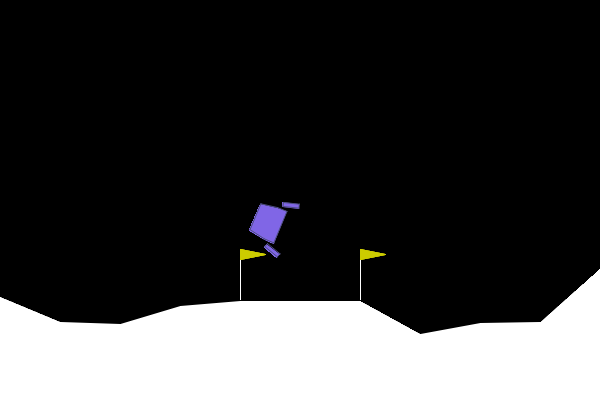lander: (241, 189, 301, 259)
